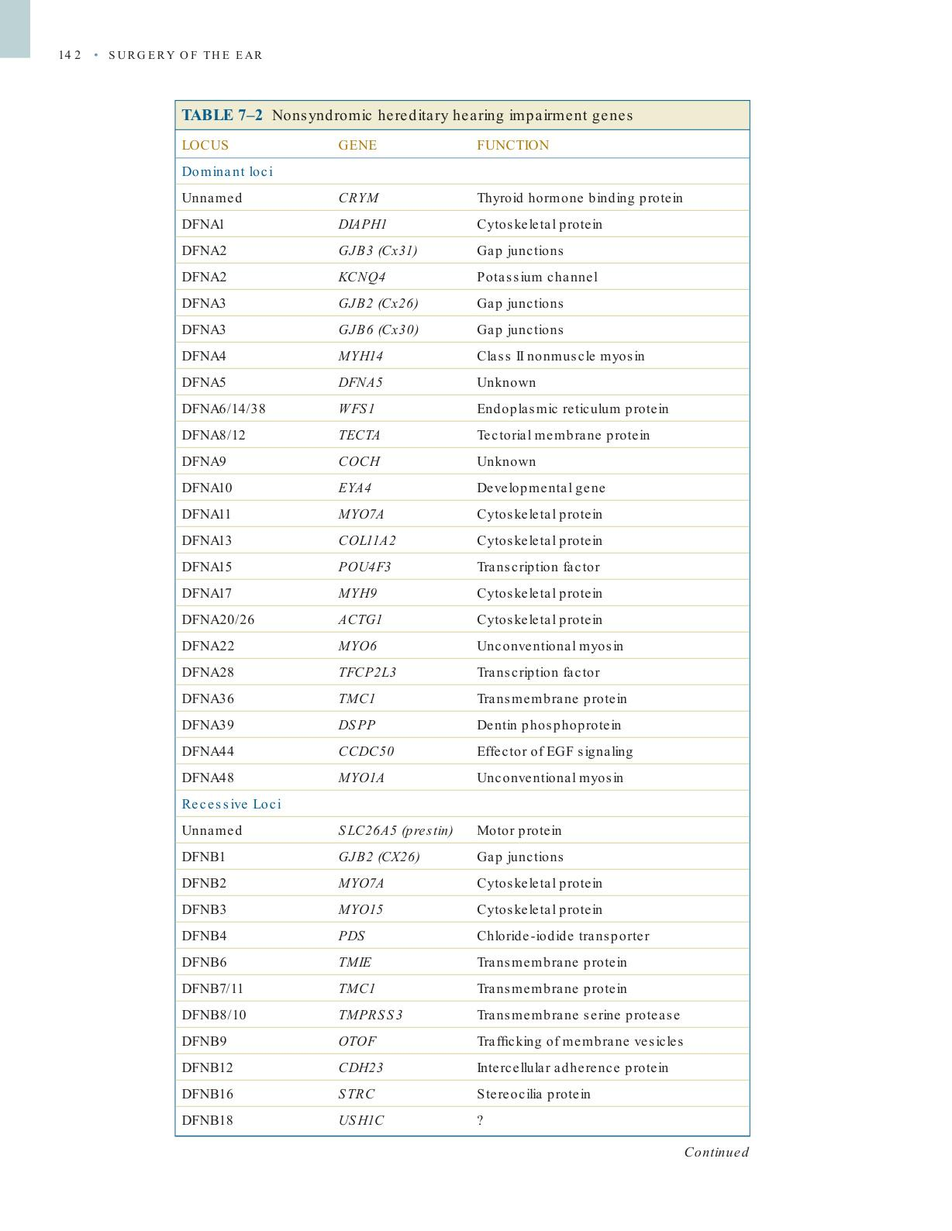caption: (270, 105, 637, 125)
header: (107, 47, 265, 61)
table: (175, 129, 751, 1136)
